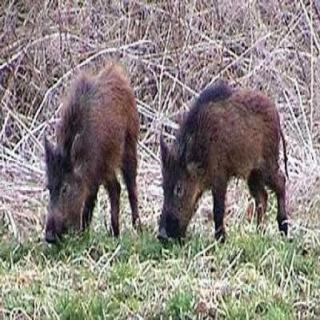Pig: (148, 60, 316, 287), (25, 51, 143, 253)
